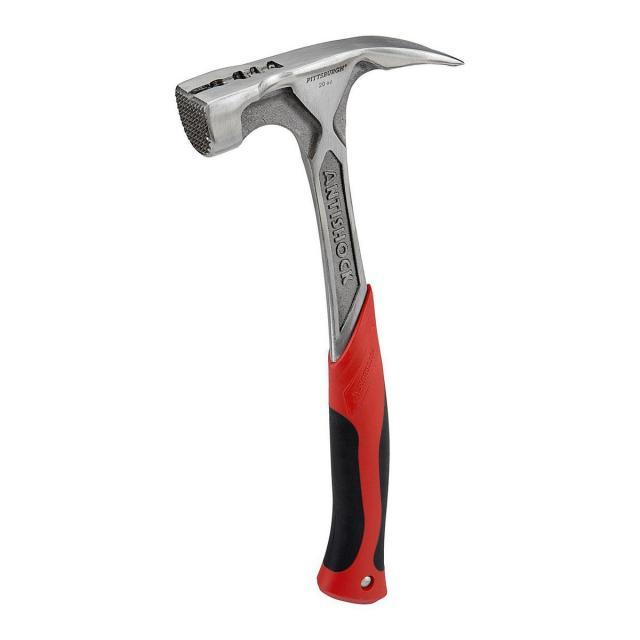hammer: (170, 25, 473, 611)
